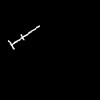double_crochet: (8, 26, 39, 48)
